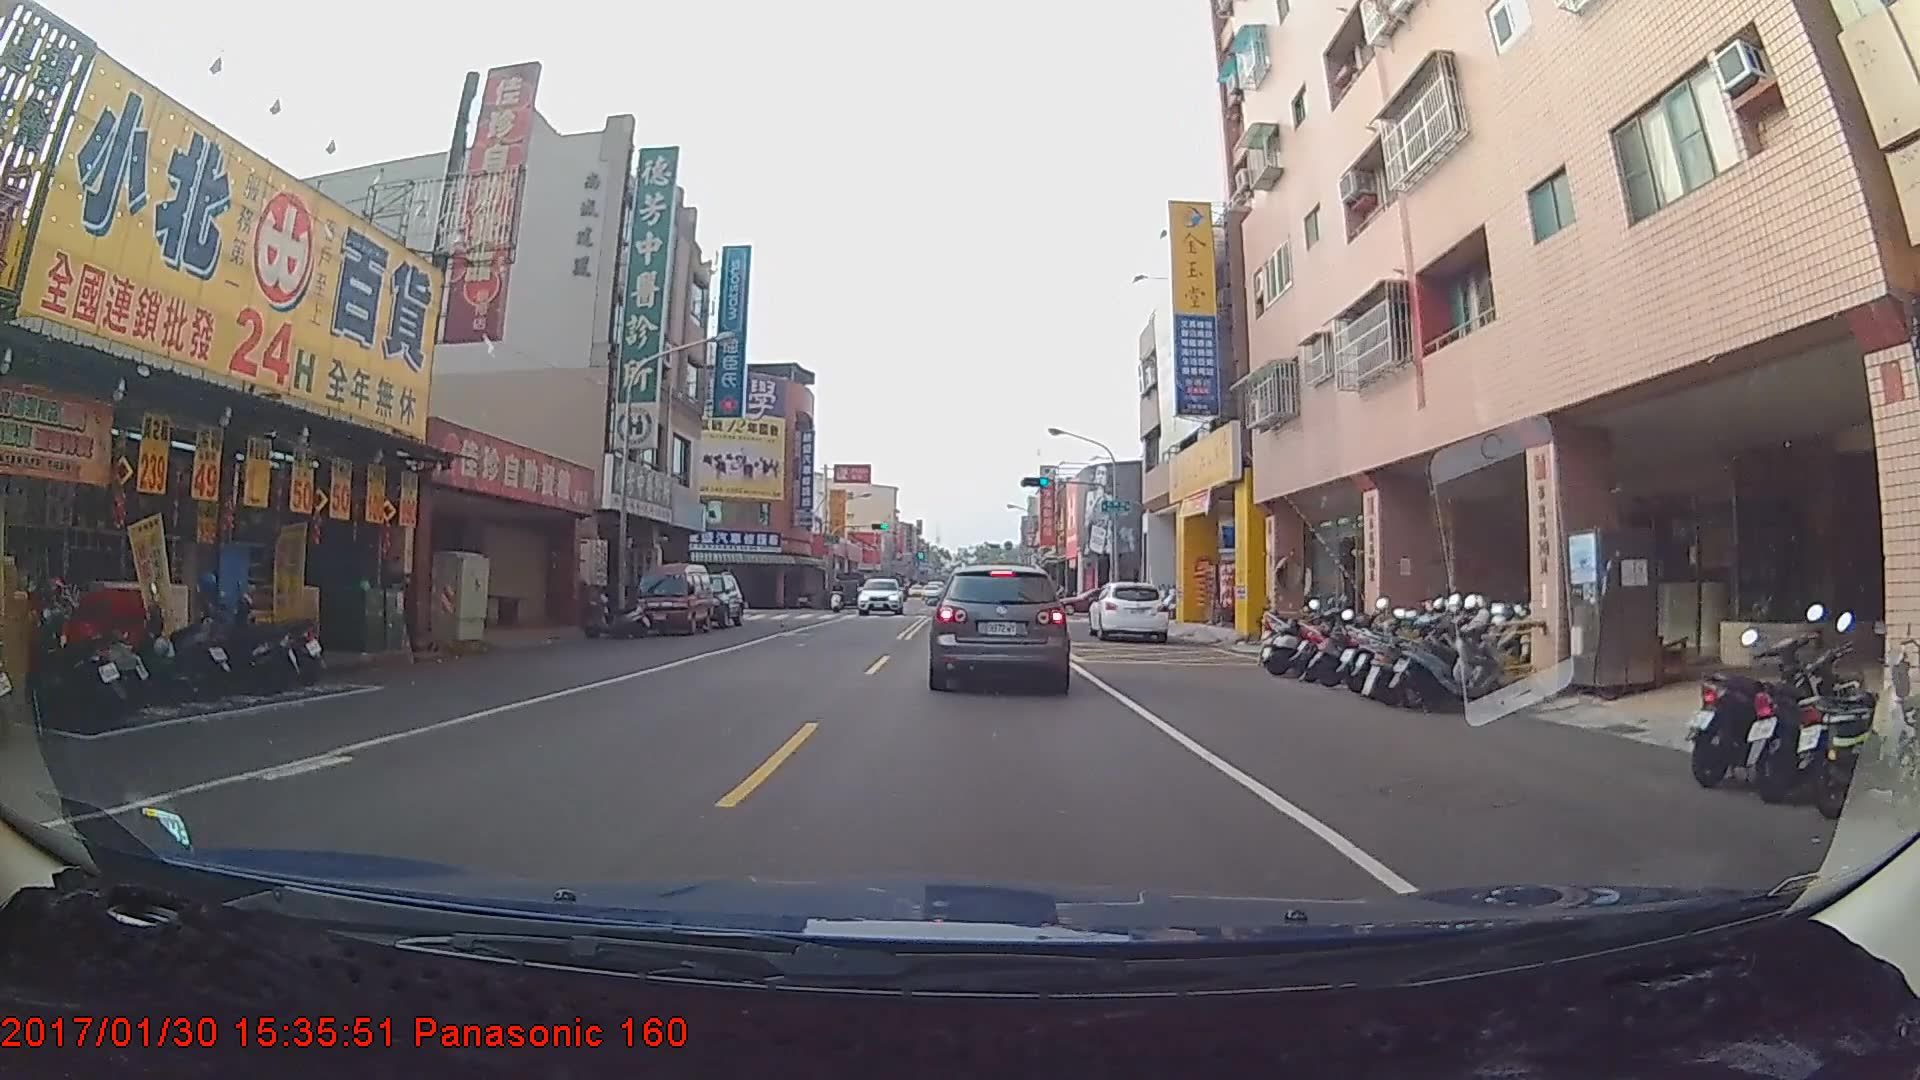vehicle: (928, 560, 1069, 690), (630, 567, 713, 638), (1087, 579, 1168, 644), (676, 568, 745, 626), (856, 576, 891, 608)
